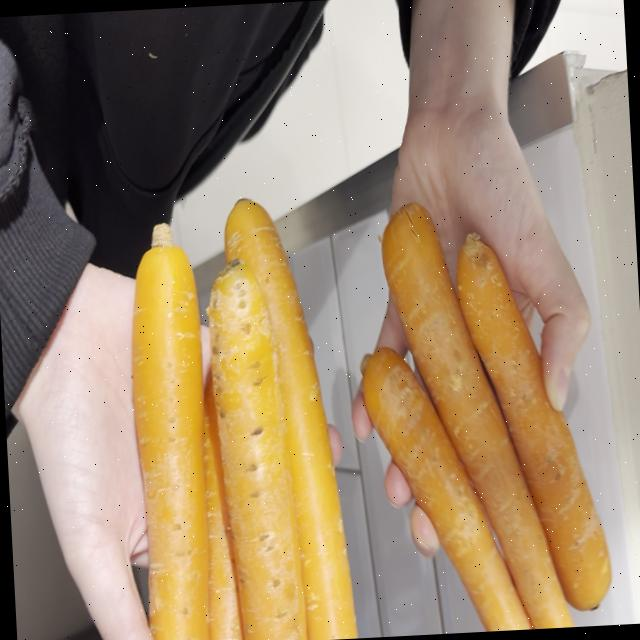carrot: (381, 202, 571, 629), (224, 198, 356, 640), (455, 233, 610, 609), (360, 347, 529, 632), (208, 260, 306, 640), (131, 244, 208, 640), (202, 375, 243, 640)
